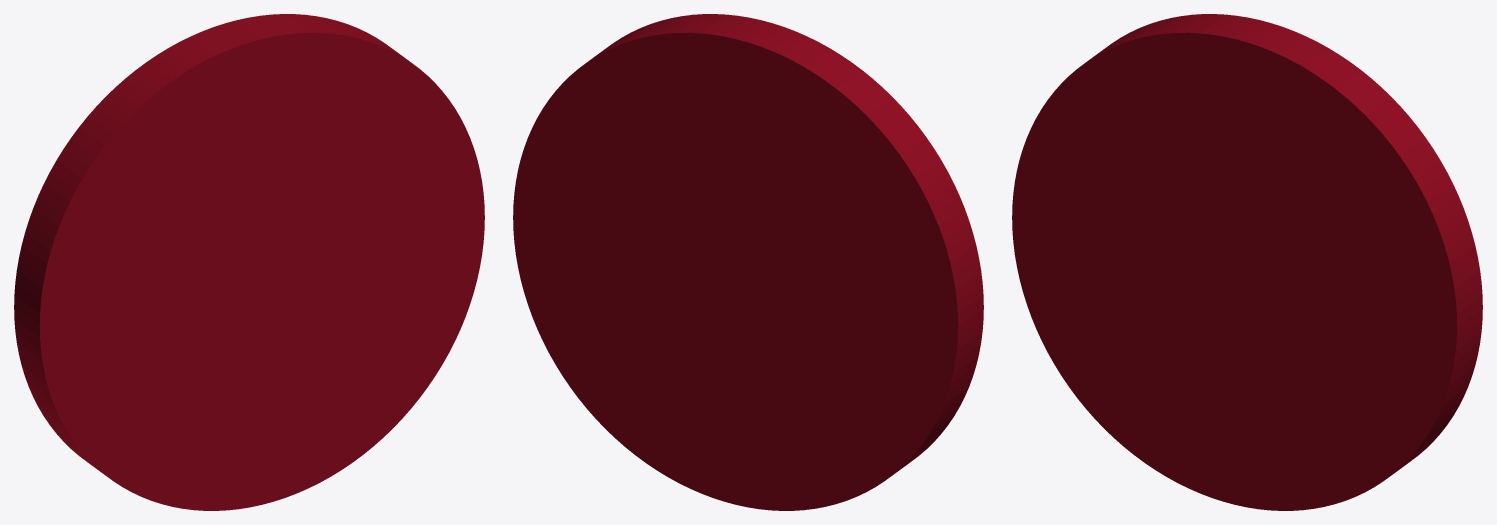
Rendered from cylindre.obj.
The picture shows the model from 3 angles, left to right: view 1: azimuth 30°, elevation 25°; view 2: azimuth 150°, elevation 25°; view 3: azimuth 330°, elevation 25°; orthographic projection.
Parts seen in each view (by area): view 1: Object.1; view 2: Object.1; view 3: Object.1.
Boxes of the visible parts, x1,y1,x2,y2 form: Object.1: (14, 14, 484, 510); Object.1: (513, 14, 983, 510); Object.1: (1012, 14, 1482, 510).
Size of the model in its own units: 50 by 50 by 5.
